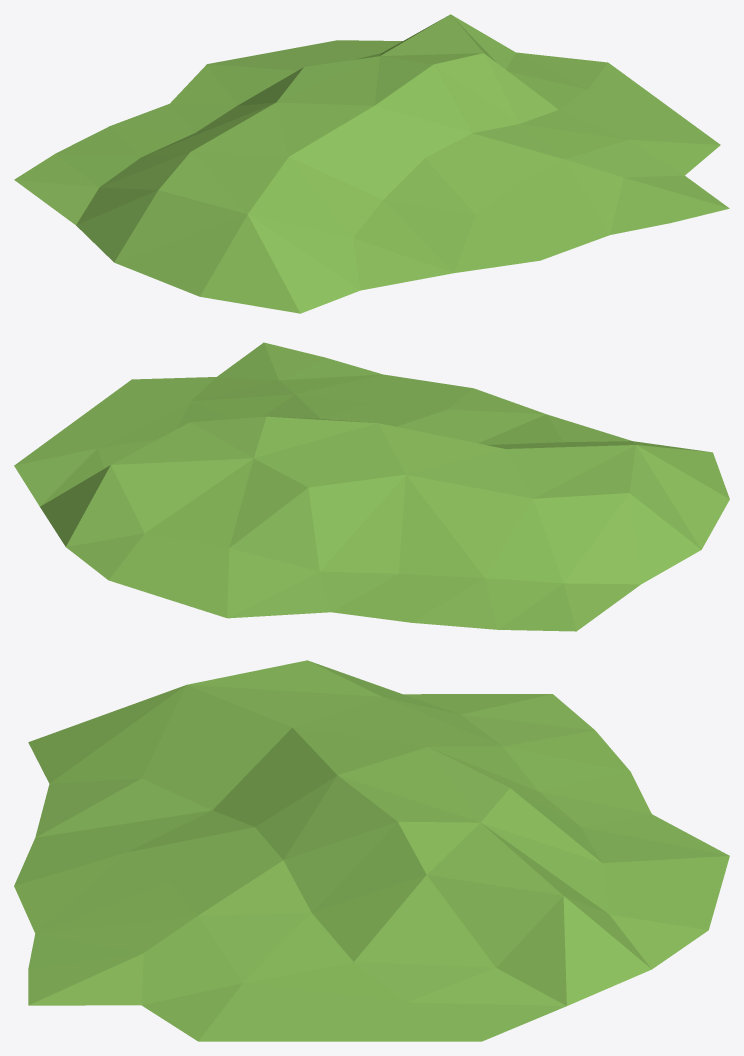
Rendered from MT_Mountain_S_b_18_LOD.fbx.
3 renders of one model, top to bottom at view 1: azimuth 30°, elevation 25°; view 2: azimuth 150°, elevation 25°; view 3: azimuth 270°, elevation 25°, orthographic. The views are drawn at different scales.
Visible parts, largest first — view 1: MT_Mountain_S_b_18_LOD0; view 2: MT_Mountain_S_b_18_LOD0; view 3: MT_Mountain_S_b_18_LOD0.
Boxes of the visible parts, bbox=[...] form: MT_Mountain_S_b_18_LOD0: bbox=[14, 14, 729, 313]; MT_Mountain_S_b_18_LOD0: bbox=[14, 342, 729, 631]; MT_Mountain_S_b_18_LOD0: bbox=[14, 660, 729, 1041].
Size of what is drawn, in the model's own units: 2305 by 282 by 1973.
